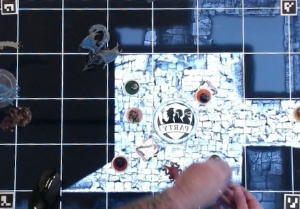green: (123, 77, 143, 96)
orange: (195, 87, 213, 106)
pink: (126, 104, 147, 125)
red: (110, 154, 129, 171)
yellow: (289, 101, 300, 121)
